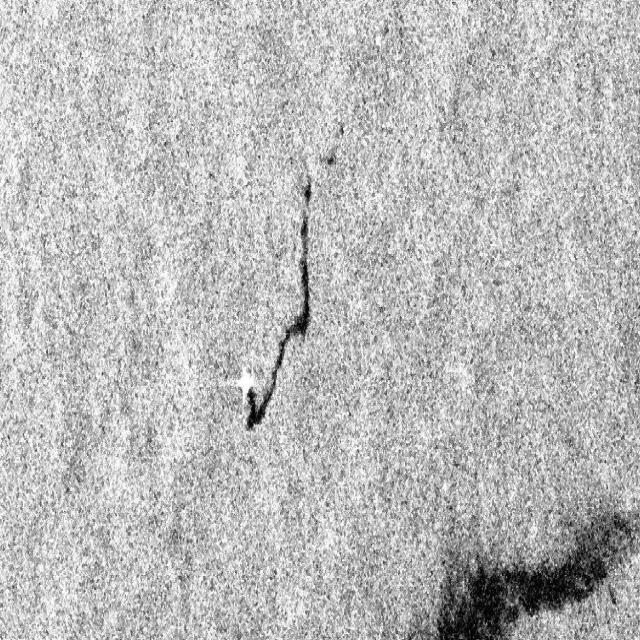oil-spill: (424, 504, 634, 640), (276, 172, 334, 339), (242, 344, 294, 434)
ship: (228, 359, 257, 408)
